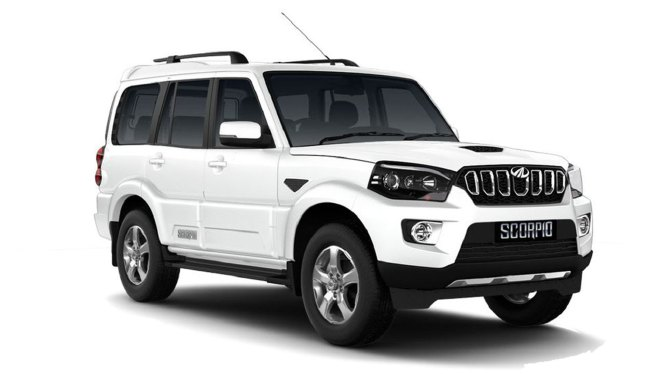Car: (84, 48, 603, 356)
